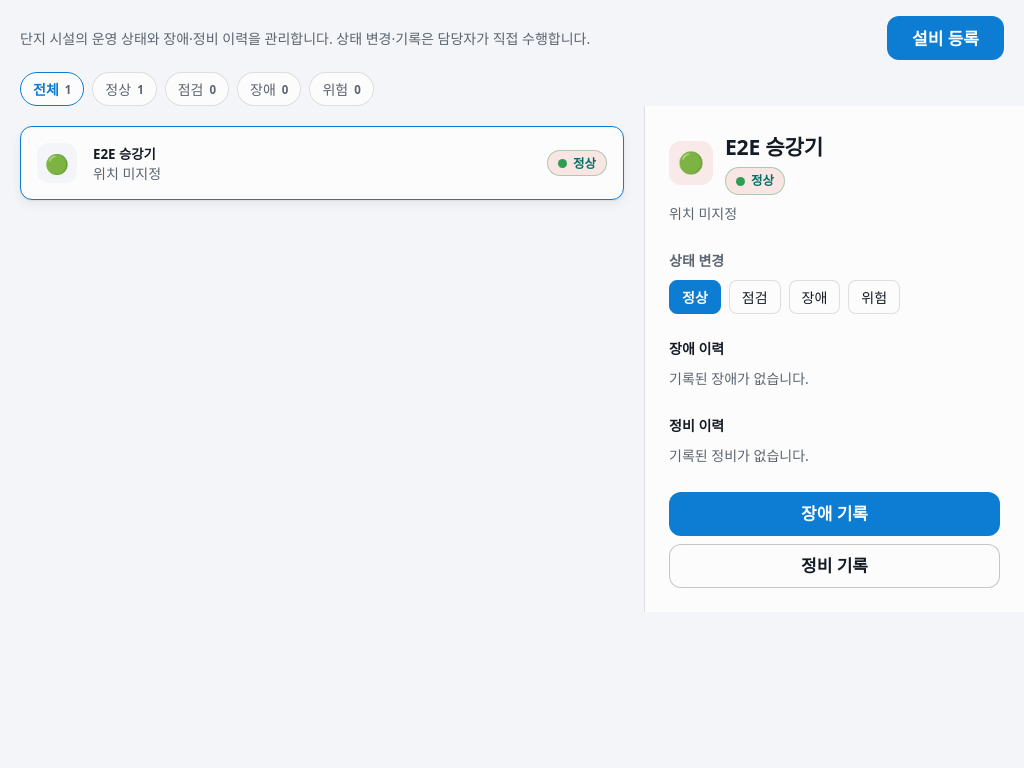
it: FacilityManager 장애 기록 › 장애를 기록하면 상세를 재조회해 장애 이력에 반영한다
Check: the text "장애 이력" is shown, box x1=669 y1=339 x2=724 y2=358
Click the button "장애 기록": (834, 514) x1=669 y1=492 x2=1000 y2=536
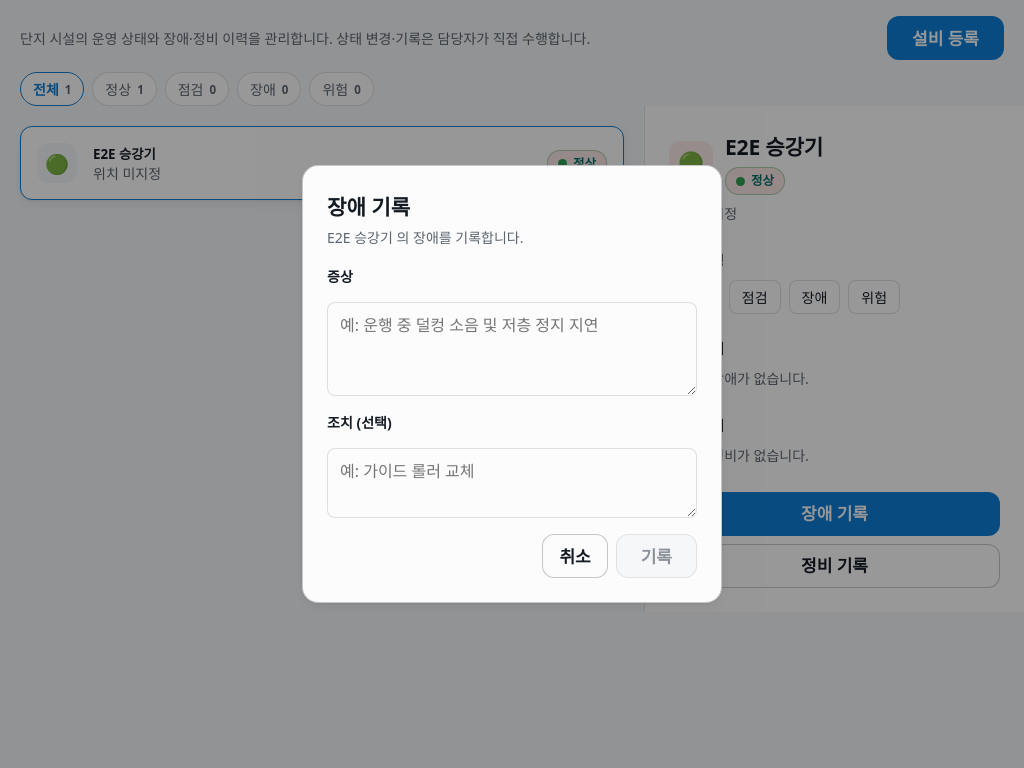
In the text box labelled "증상": (512, 349) x1=327 y1=302 x2=697 y2=396, type "운행 중 덜컹 소음이 발생합니다."
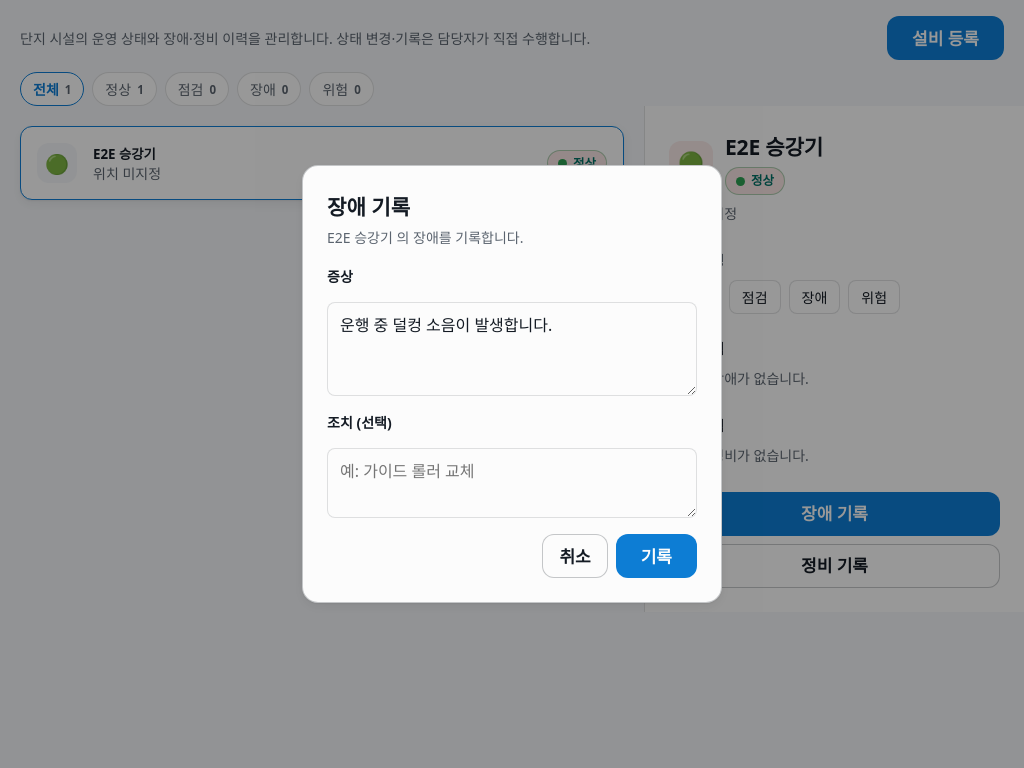
Note: testing-library의 name은 기본 완전일치 — 상세 패널의 "장애 기록" 버튼과 섞이지 않는다.
Click the button "기록": (656, 556) x1=616 y1=534 x2=697 y2=578
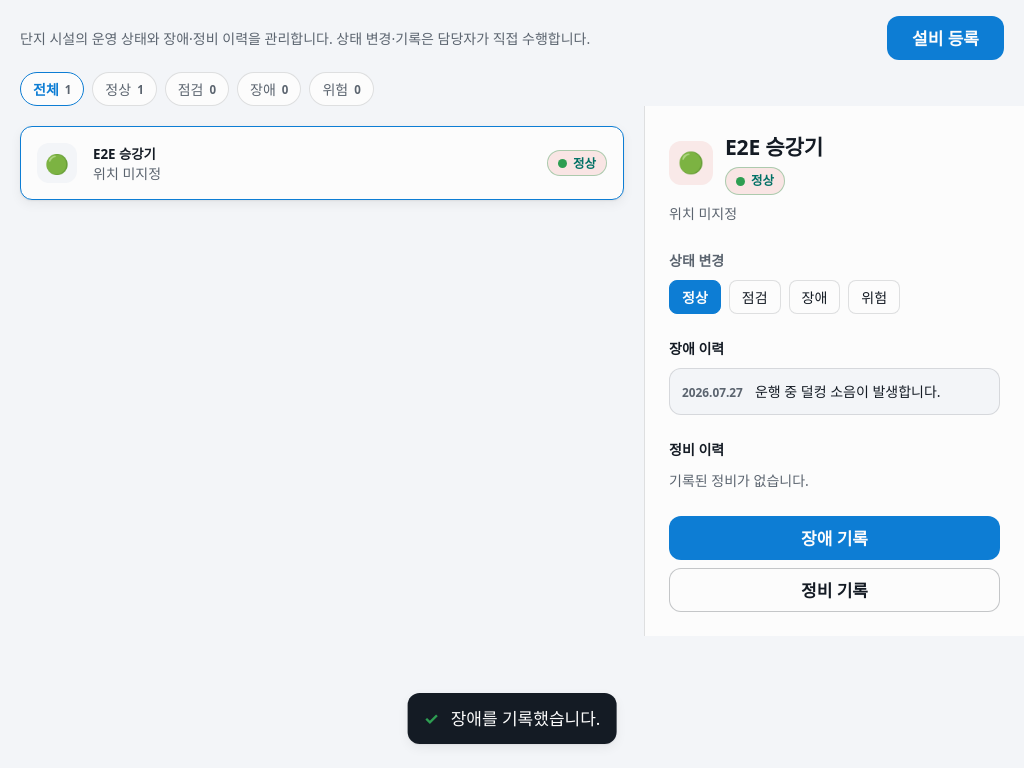
Check: the text "장애를 기록했습니다." is shown, box x1=451 y1=705 x2=600 y2=732
Check: the text "운행 중 덜컹 소음이 발생합니다." is shown, box x1=755 y1=382 x2=941 y2=402
